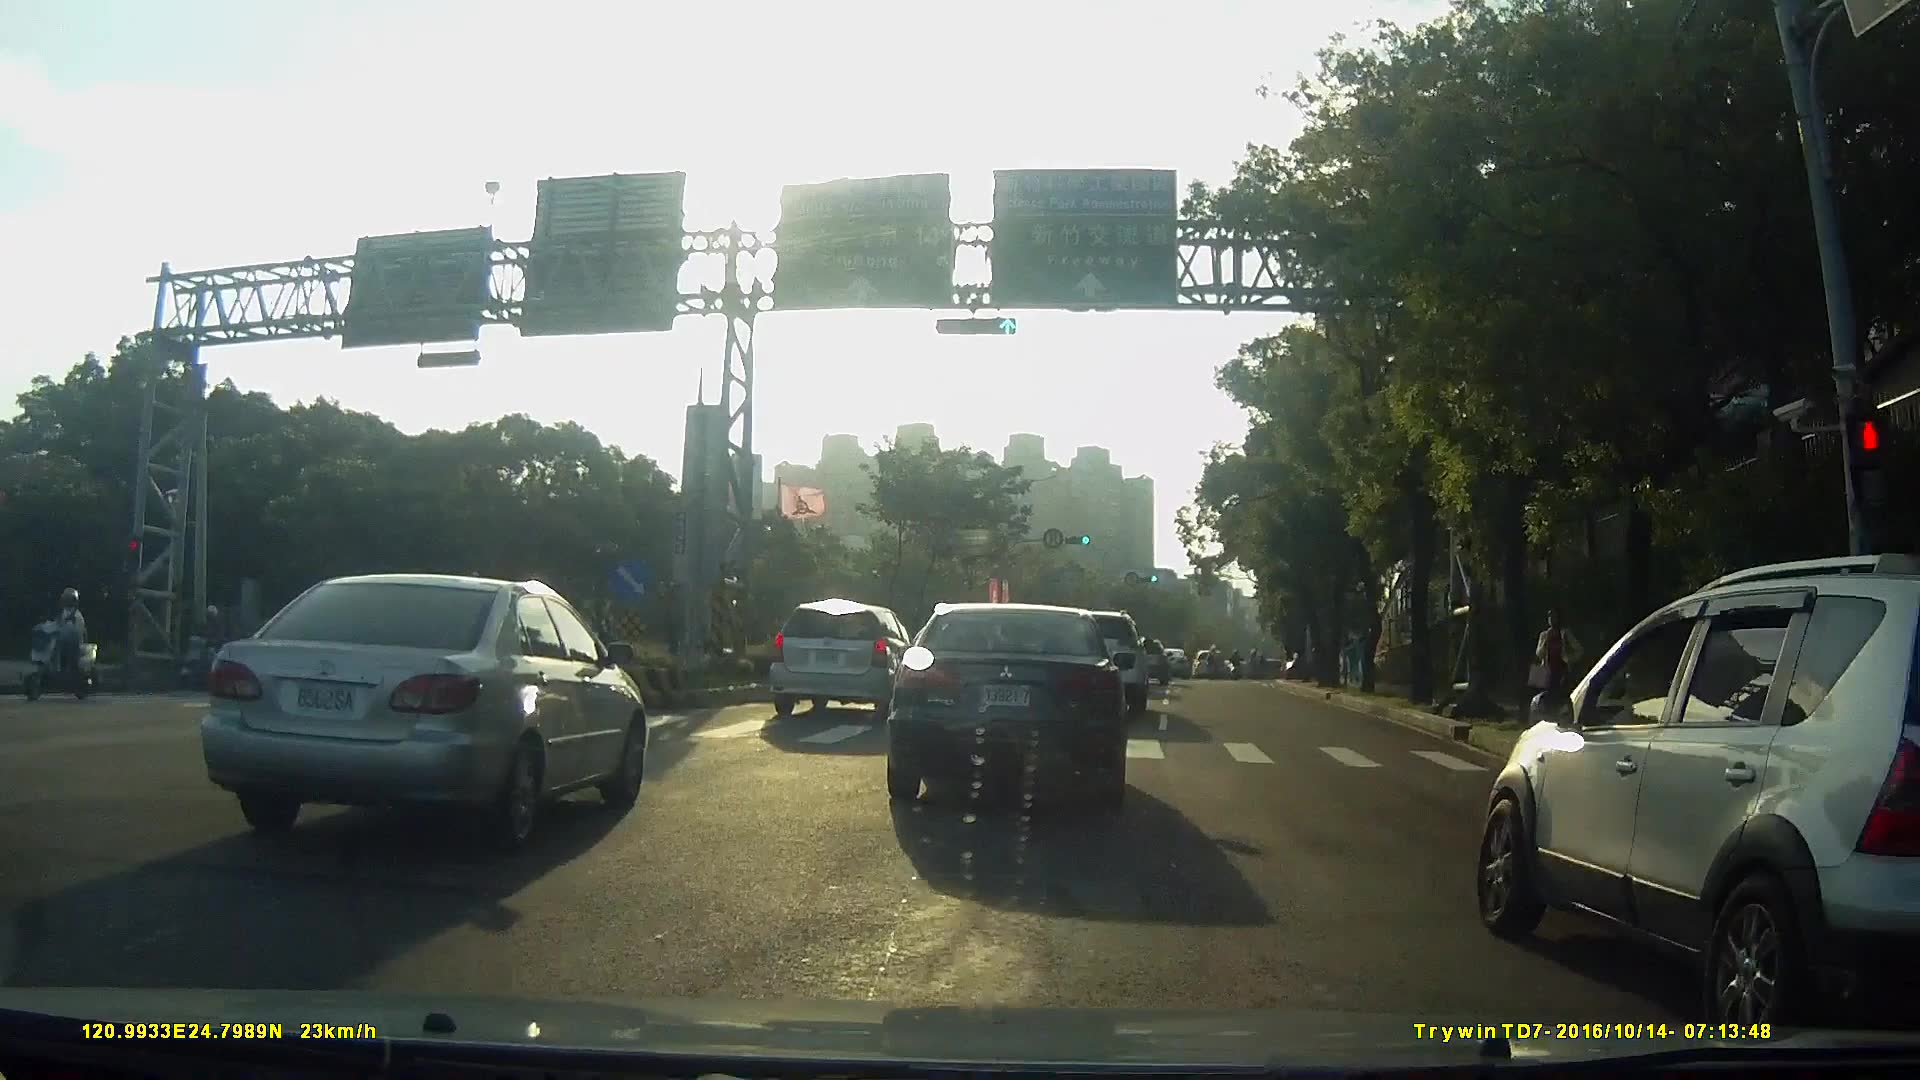rider: (20, 589, 94, 701), (168, 603, 229, 693)
vehicle: (1447, 554, 1920, 1038), (183, 565, 665, 851), (871, 600, 1145, 814), (757, 596, 910, 718), (1149, 644, 1183, 676), (1181, 644, 1215, 676)
